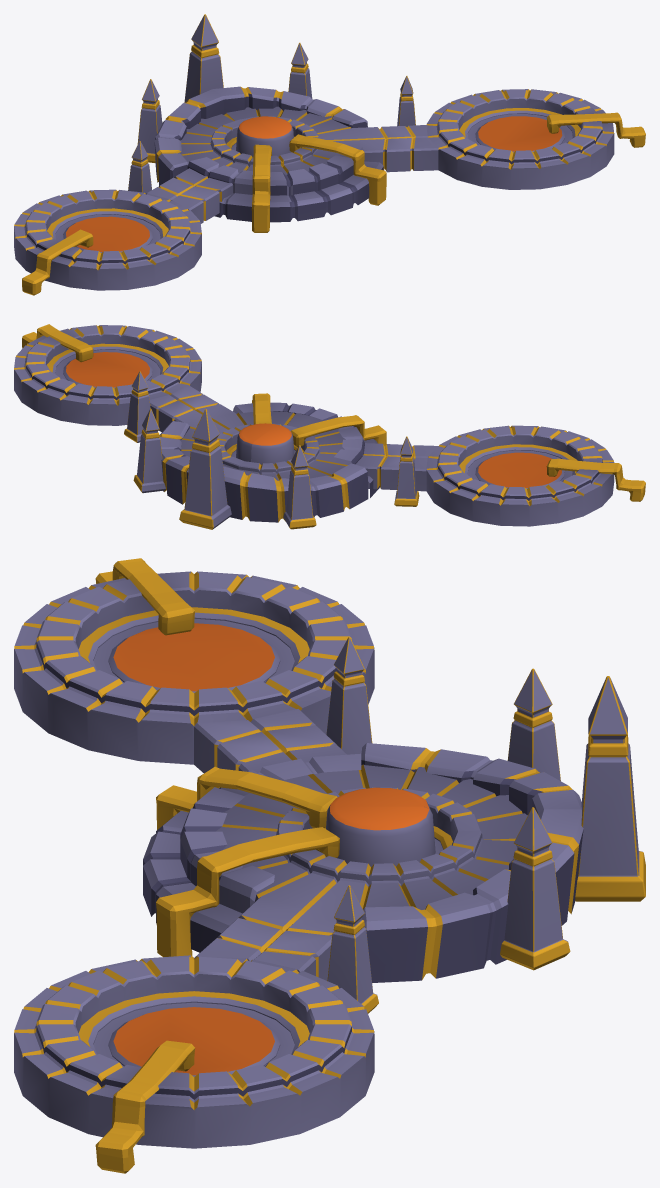
The model's file is shrine_mid.glb.
3 views of the same model, one above another, from view 1: azimuth 30°, elevation 25°; view 2: azimuth 150°, elevation 25°; view 3: azimuth 270°, elevation 25° (orthographic). The views are drawn at different scales.
Parts seen in each view (by area): view 1: shrine_mid_flat; view 2: shrine_mid_flat; view 3: shrine_mid_flat.
Part boxes in pixels (x1,y1,x2,y2): shrine_mid_flat: [14, 14, 645, 295]; shrine_mid_flat: [14, 324, 645, 529]; shrine_mid_flat: [14, 558, 645, 1173].
Bounding box in the file's own units: 3.14 × 0.5774 × 1.45.
